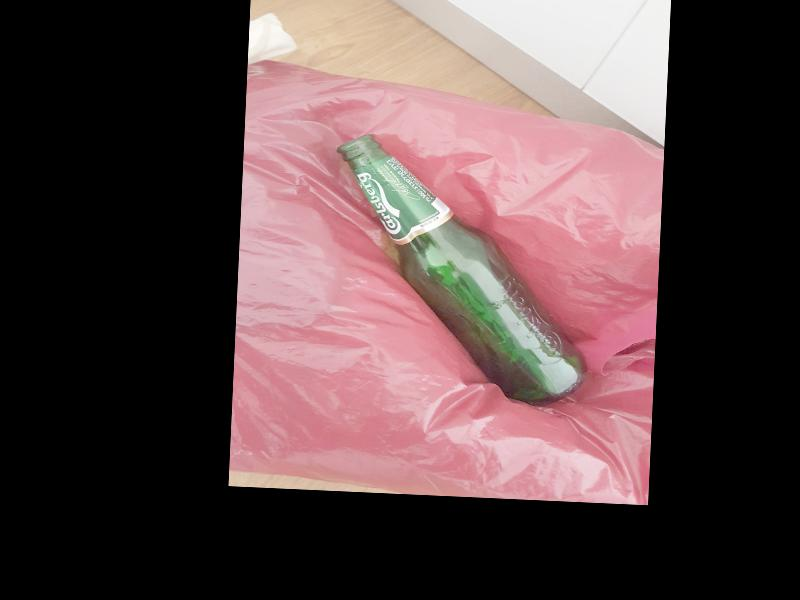Beer: (325, 132, 594, 406)
